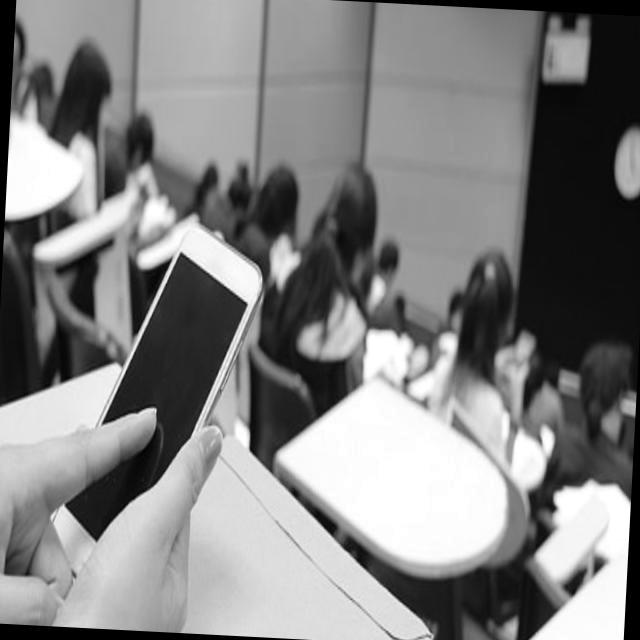phone: (52, 217, 268, 584)
